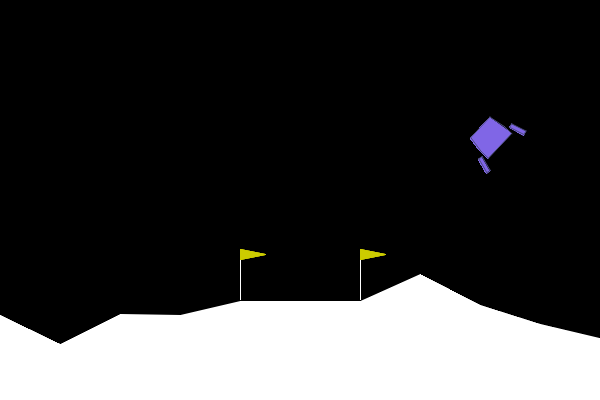lander: (458, 104, 528, 176)
